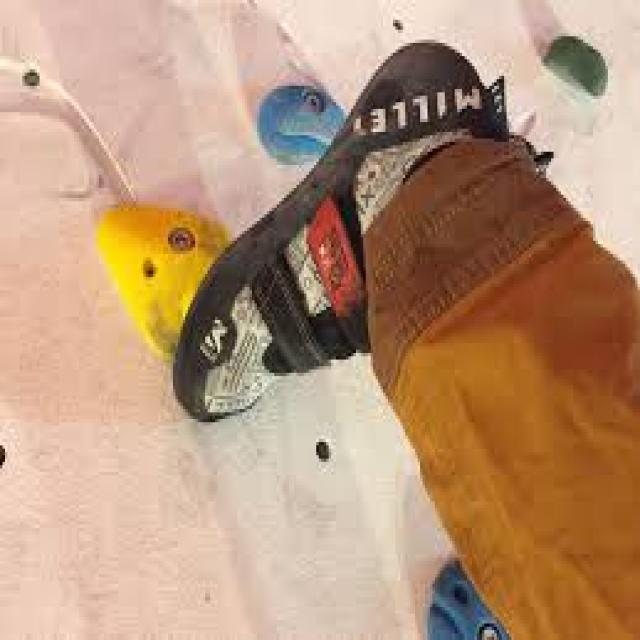climbing-shoes: (172, 38, 508, 420)
